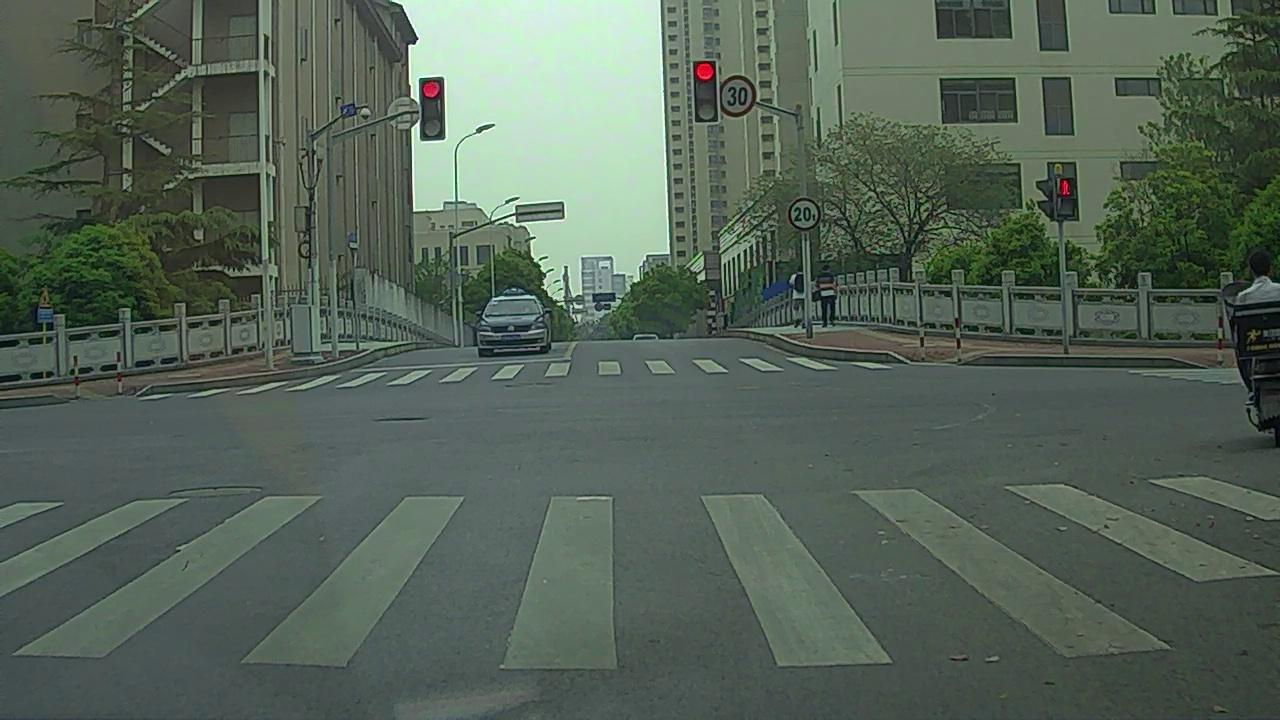traffic_light: (693, 61, 717, 124), (422, 76, 446, 138)
